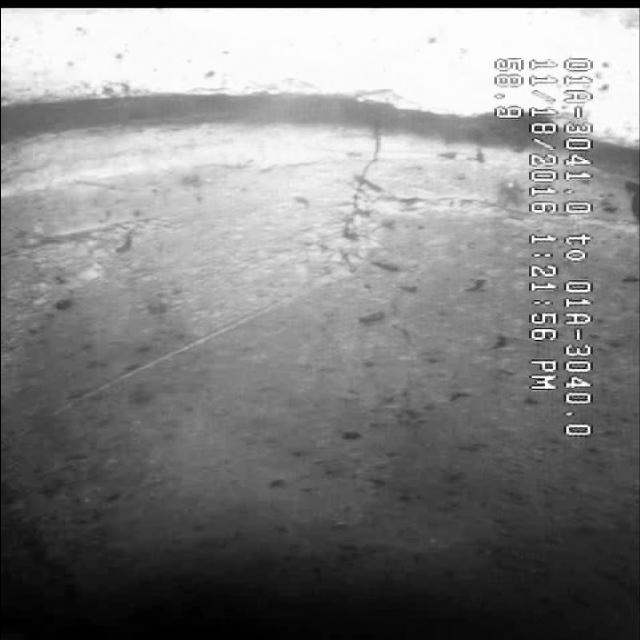Crack: (262, 137, 442, 340)
